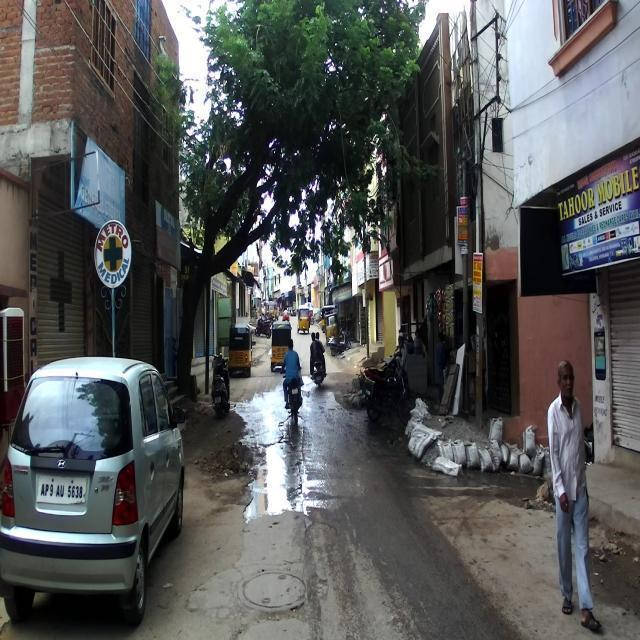Pothole: (198, 436, 310, 525)
